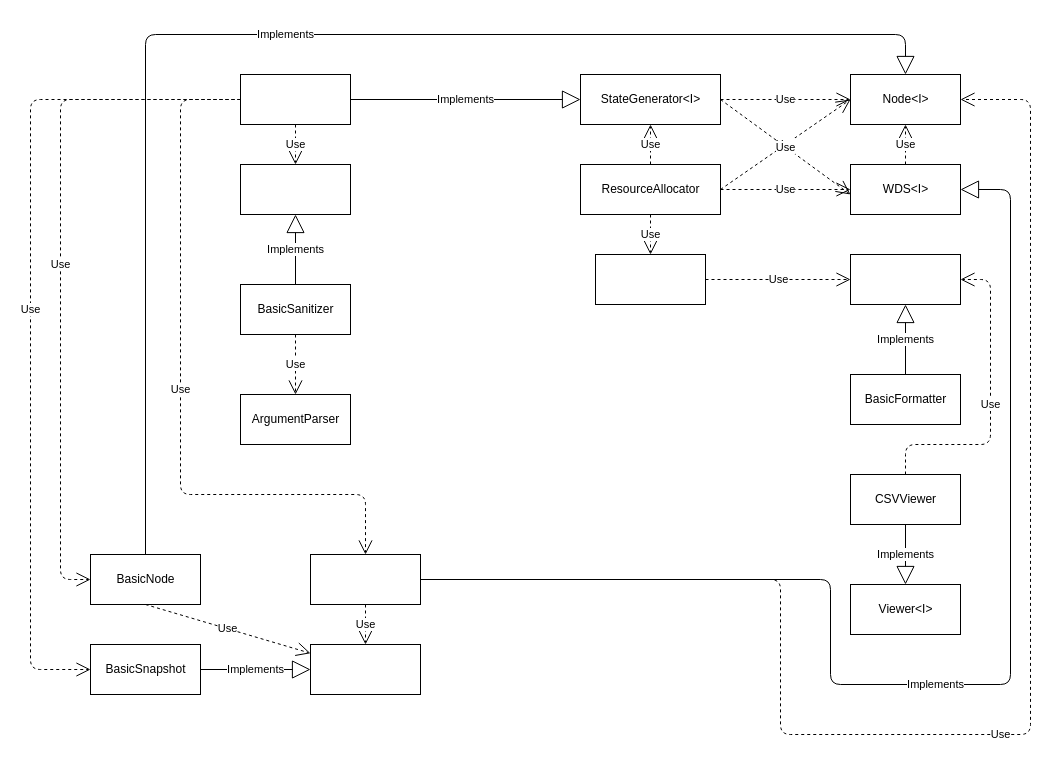
Some shapes in this 1062 by 766 pixel diagram are drawn without their labels. The centre of each missing label's shape, as x and y in pixels:
BasicGenerator: pixel 295 99
BasicWDS: pixel 365 579
Formatter<I>: pixel 905 279
HiveNet: pixel 650 279
Sanitizer<I>: pixel 295 189
Snapshot<I>: pixel 365 669
